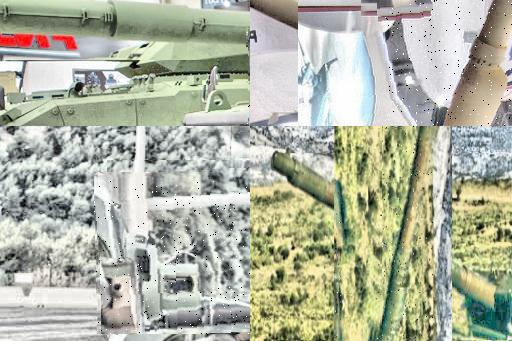tanks: (95, 183, 251, 335), (1, 39, 251, 127), (377, 127, 434, 341), (1, 1, 251, 45), (444, 1, 512, 127), (335, 183, 342, 332)
